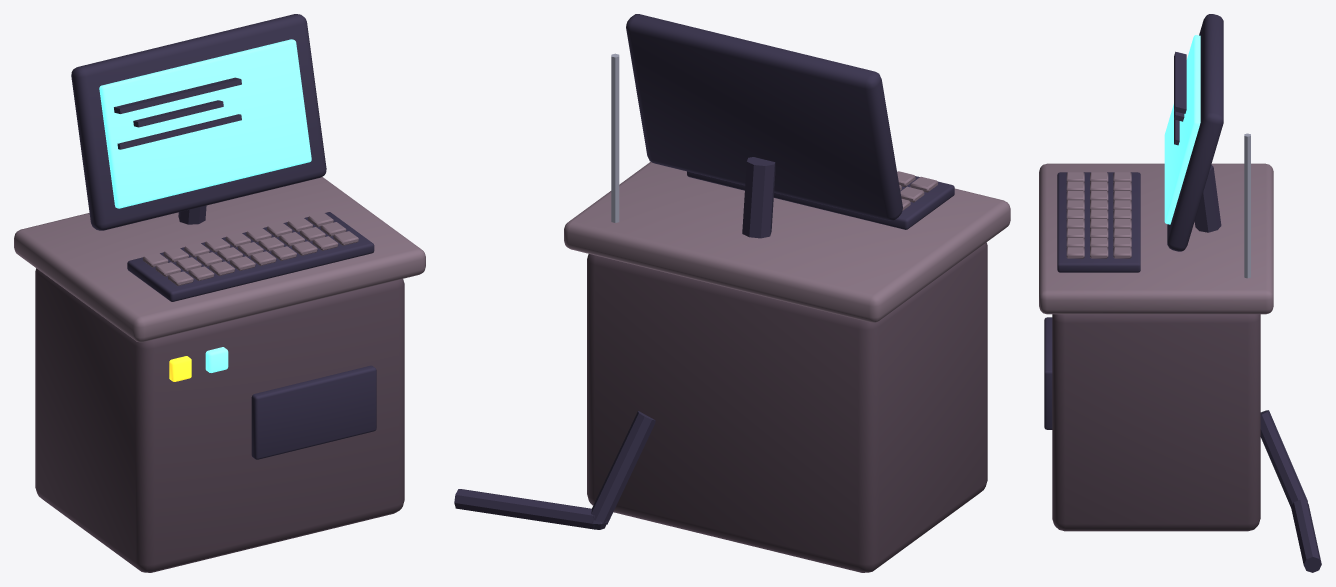
The model's file is terminal.glb.
3 views of the same model, side by side, from view 1: azimuth 30°, elevation 25°; view 2: azimuth 150°, elevation 25°; view 3: azimuth 270°, elevation 25° (orthographic). The views are drawn at different scales.
Visible parts, largest first — view 1: terminal; view 2: terminal; view 3: terminal.
Part boxes in pixels (<box>): terminal: <box>14,14,425,572</box>; terminal: <box>454,14,1010,572</box>; terminal: <box>1039,14,1321,572</box>.
Bounding box in the file's own units: 1.5 × 1.74 × 1.08.
